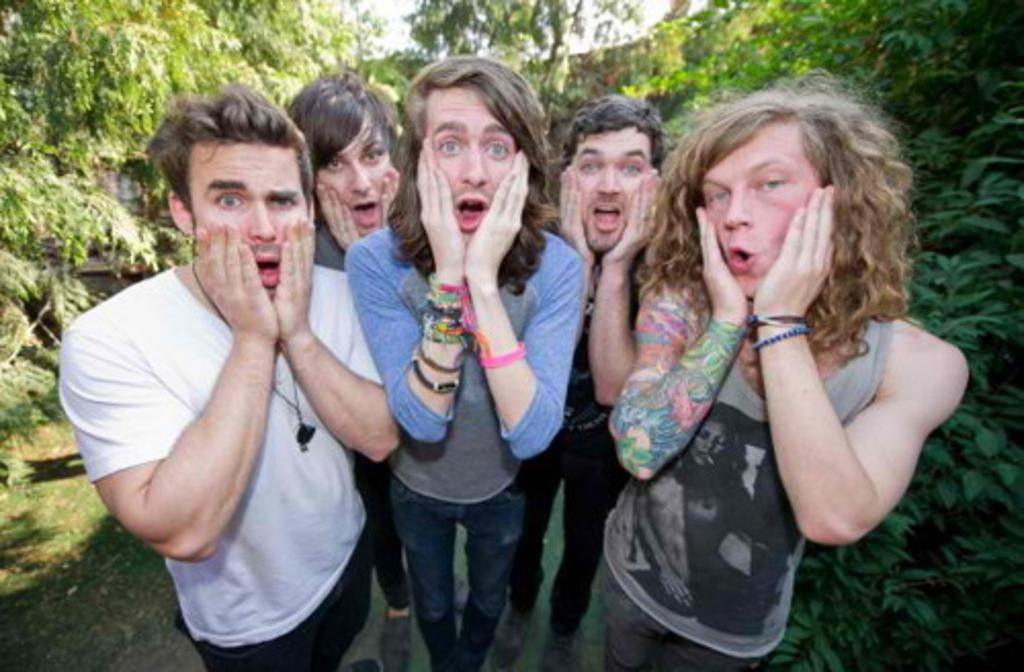human_face: (700, 120, 826, 296), (188, 140, 310, 314), (424, 92, 520, 244), (316, 114, 394, 240), (576, 128, 650, 252)
